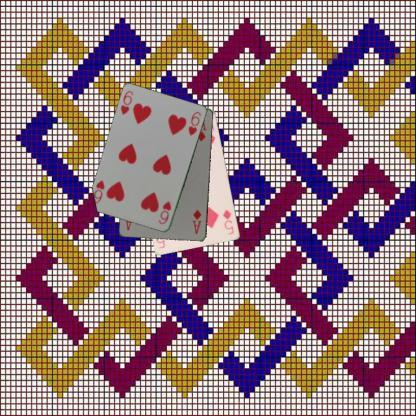5d: (220, 207, 235, 236)
6h: (156, 199, 173, 226), (118, 89, 134, 116)
Ad: (190, 206, 202, 236)
